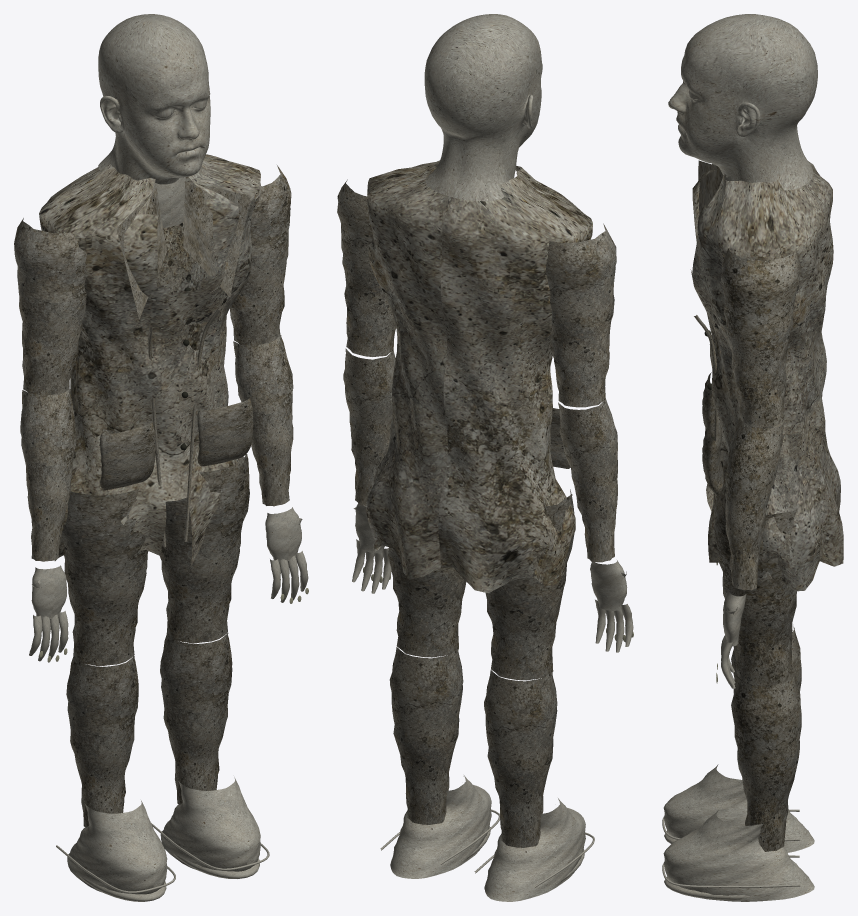
File: stone.glb
The picture shows the model from 3 angles, left to right: view 1: azimuth 30°, elevation 25°; view 2: azimuth 150°, elevation 25°; view 3: azimuth 270°, elevation 25°; orthographic projection.
Visible parts, largest first — view 1: sculpt (×8), tailored-coat, skin-stone-details (×4), facial-sculpt, pants-stone-details, cloth-stone-details, neck; view 2: tailored-coat, sculpt (×8), facial-sculpt, skin-stone-details (×4), pants-stone-details; view 3: sculpt (×5), tailored-coat, facial-sculpt, skin-stone-details (×3), pants-stone-details, cloth-stone-details.
Part boxes in pixels (x1,y1,x2,y2): sculpt (×8): (14, 165, 293, 827); tailored-coat: (39, 154, 261, 565); skin-stone-details (×4): (29, 507, 308, 901); facial-sculpt: (98, 14, 210, 184); pants-stone-details: (99, 222, 253, 490); cloth-stone-details: (116, 181, 250, 547); neck: (153, 177, 187, 227); tailored-coat: (365, 160, 592, 593); sculpt (×8): (337, 179, 617, 847); facial-sculpt: (424, 14, 542, 201); skin-stone-details (×4): (352, 504, 633, 901); pants-stone-details: (550, 408, 570, 468); sculpt (×5): (714, 248, 801, 851); tailored-coat: (690, 161, 843, 591); facial-sculpt: (668, 14, 817, 190); skin-stone-details (×3): (662, 591, 814, 901); pants-stone-details: (702, 332, 723, 496); cloth-stone-details: (694, 160, 723, 503).
Size of the model in its own units: 0.6776 by 1.99 by 0.3852.
6 materials, 4 textured.
